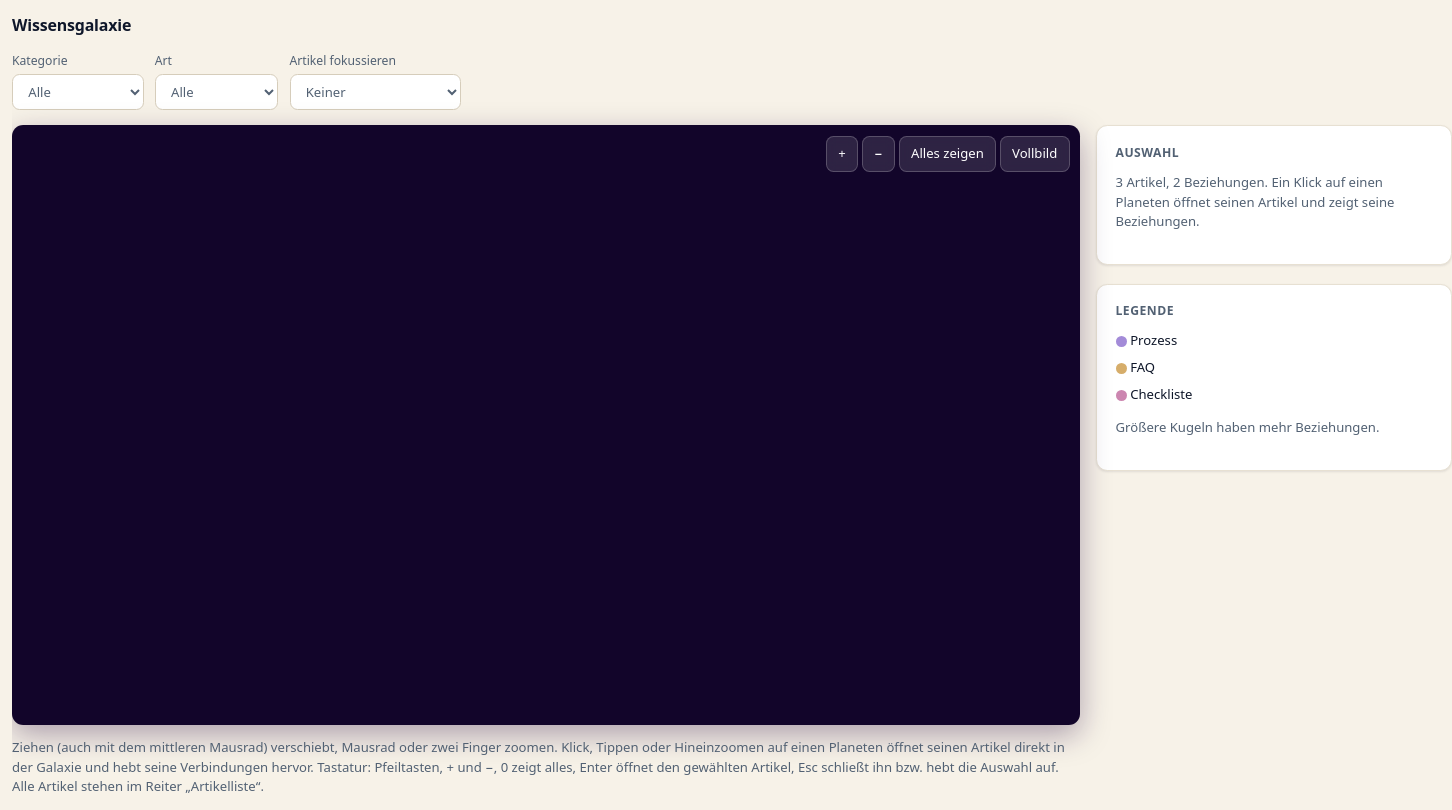
Test: KnowledgeGalaxy › opens the selected article with Enter and closes it with Escape
Select "Störungen melden" in the dropdown labelled "Artikel fokussieren" at (375, 92), box left=290, top=74, right=461, bottom=110
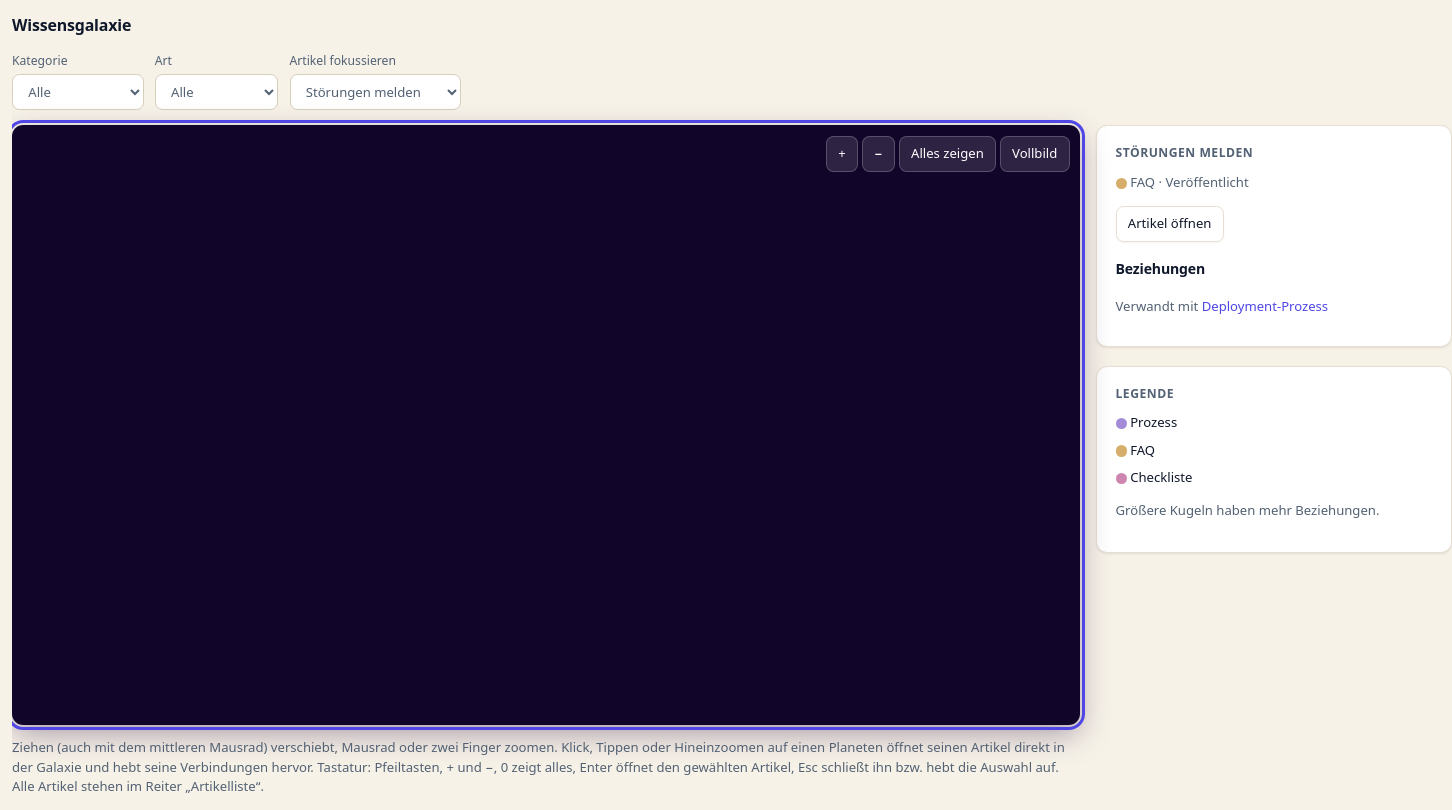
Press Enter
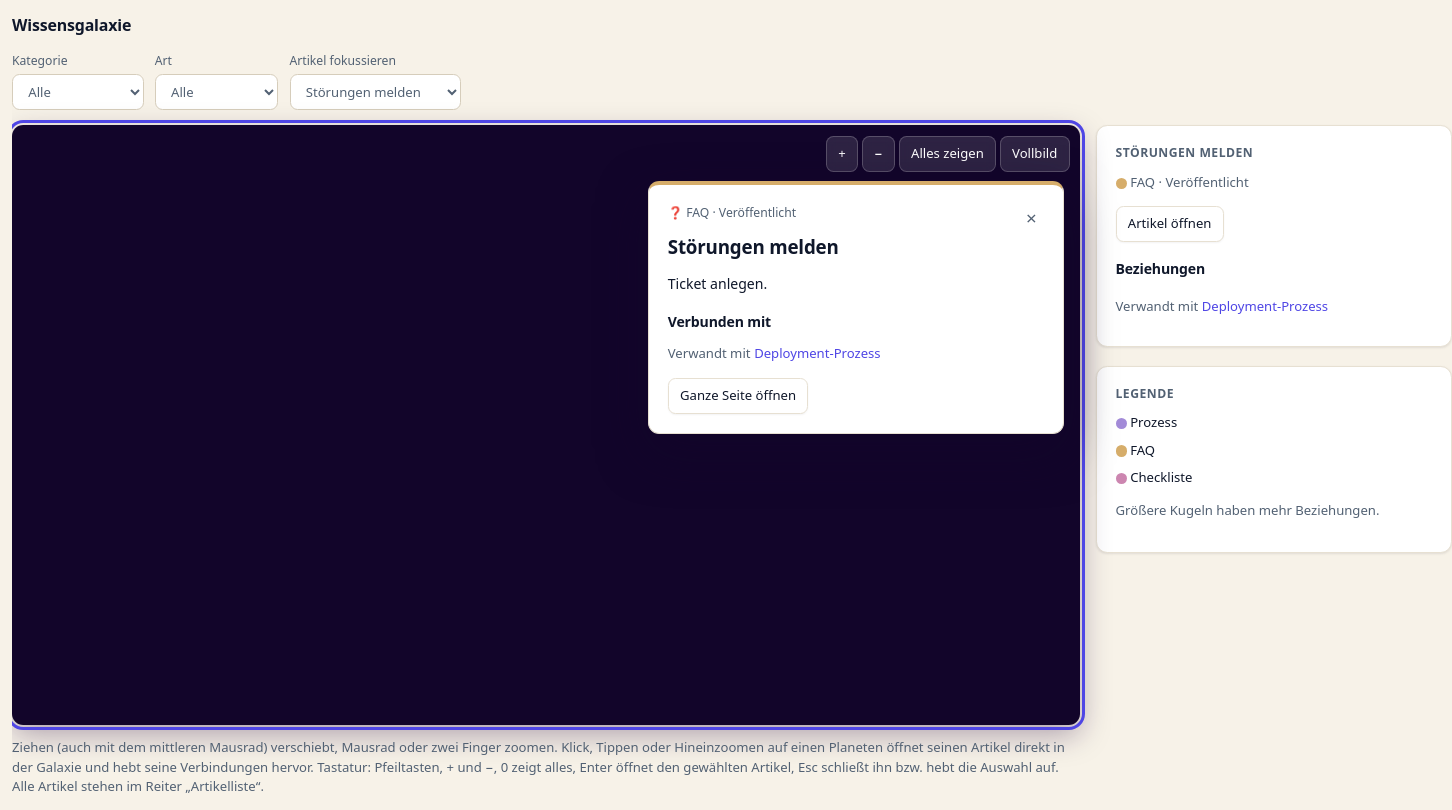
Check: the text "Ticket anlegen." is shown, box left=668, top=274, right=767, bottom=293
Press Escape
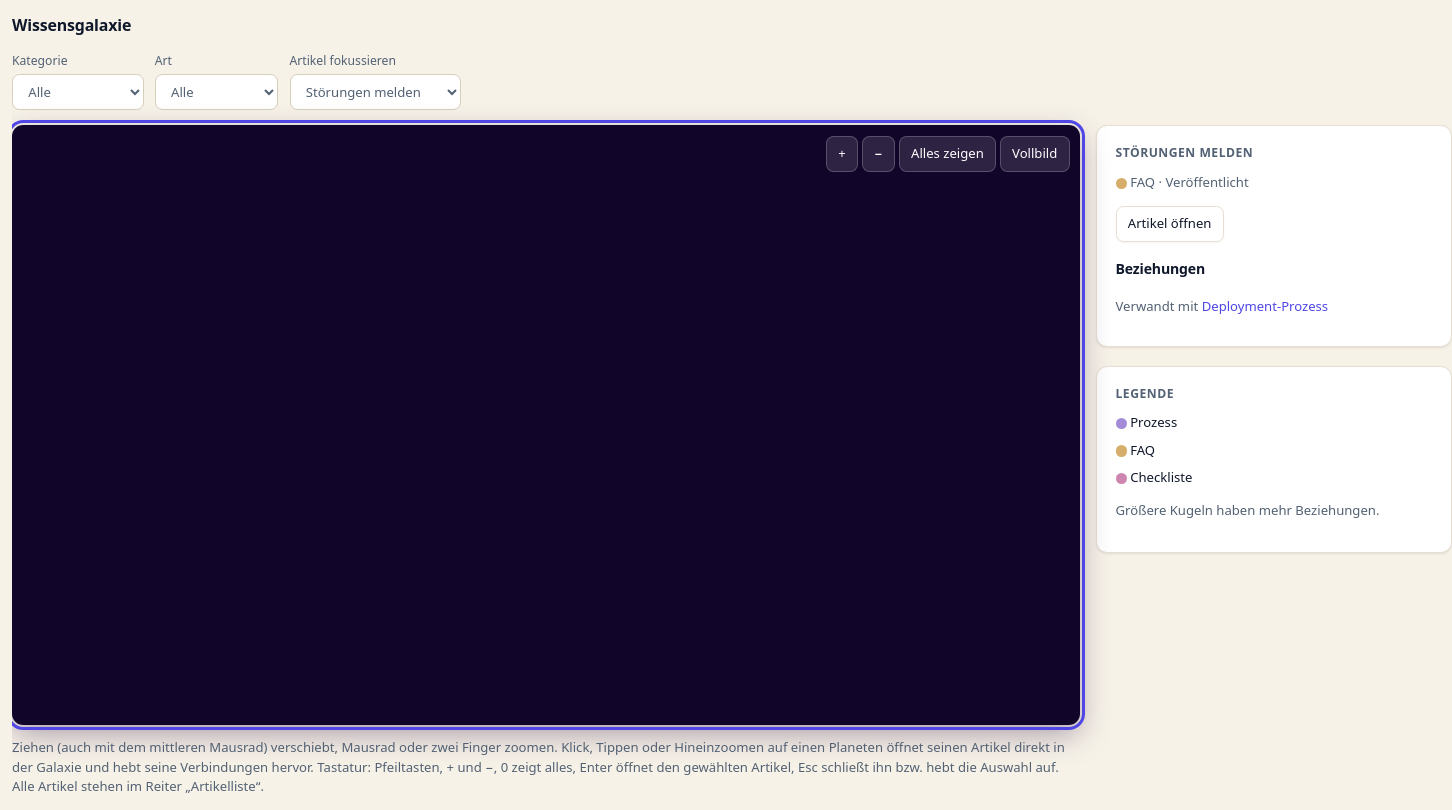
Check: the element "Störungen melden" is shown, box left=1096, top=125, right=1451, bottom=347
Check: the text "Ticket anlegen." is gone
Press Escape
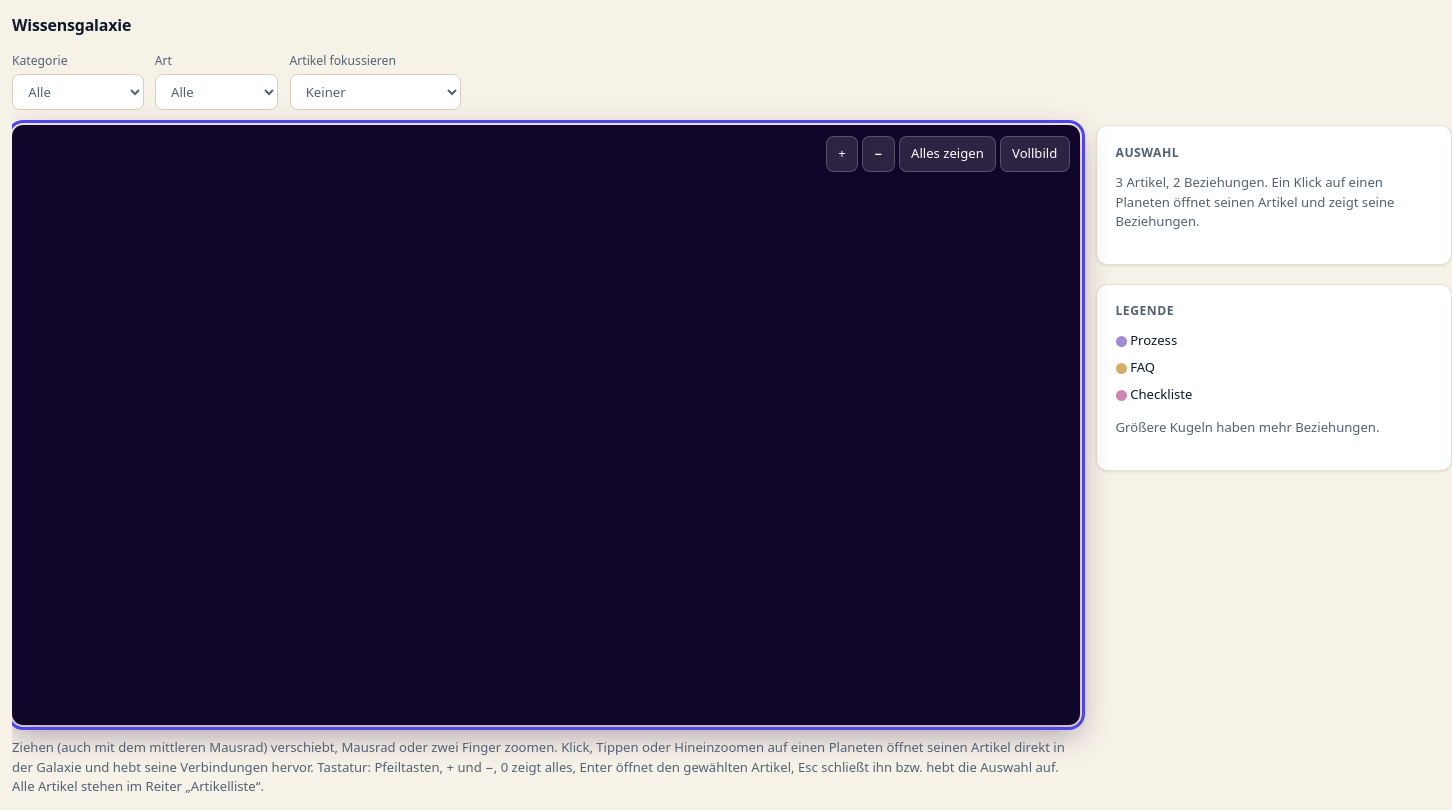
Check: the element "Auswahl" is shown, box left=1096, top=125, right=1451, bottom=265
